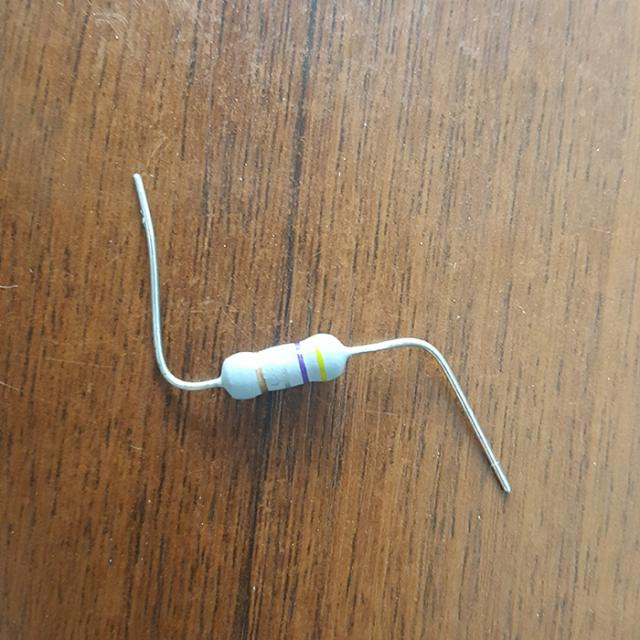Resistor Carbon-Film: (223, 330, 351, 404)
